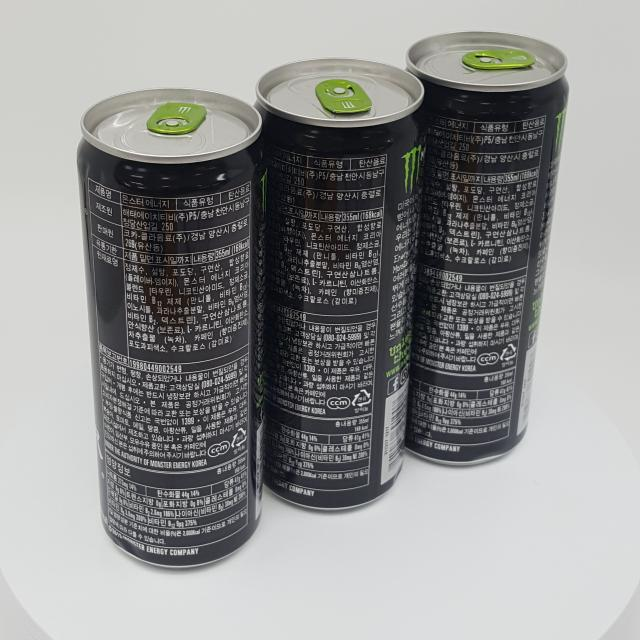--------355ML: (76, 87, 268, 568), (252, 57, 428, 511), (404, 31, 569, 466)
